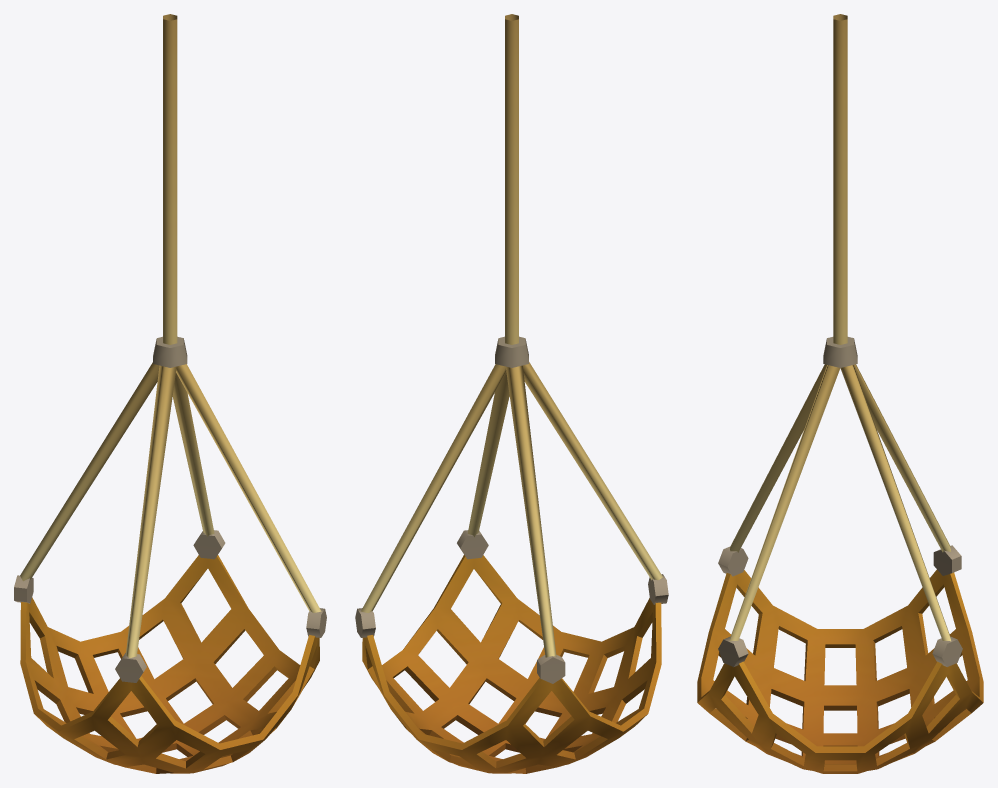
File: OB_Net_Airdrop_1.FBX
The picture shows the model from 3 angles, left to right: view 1: azimuth 30°, elevation 25°; view 2: azimuth 150°, elevation 25°; view 3: azimuth 270°, elevation 25°; orthographic projection.
Visible parts, largest first — view 1: OB_Net_Airdrop_1; view 2: OB_Net_Airdrop_1; view 3: OB_Net_Airdrop_1.
Part boxes in pixels (x1=…): OB_Net_Airdrop_1: x1=14, y1=14, x2=326, y2=773; OB_Net_Airdrop_1: x1=355, y1=14, x2=668, y2=773; OB_Net_Airdrop_1: x1=697, y1=14, x2=983, y2=773.
Size of the model in its own units: 230 by 230 by 657.
